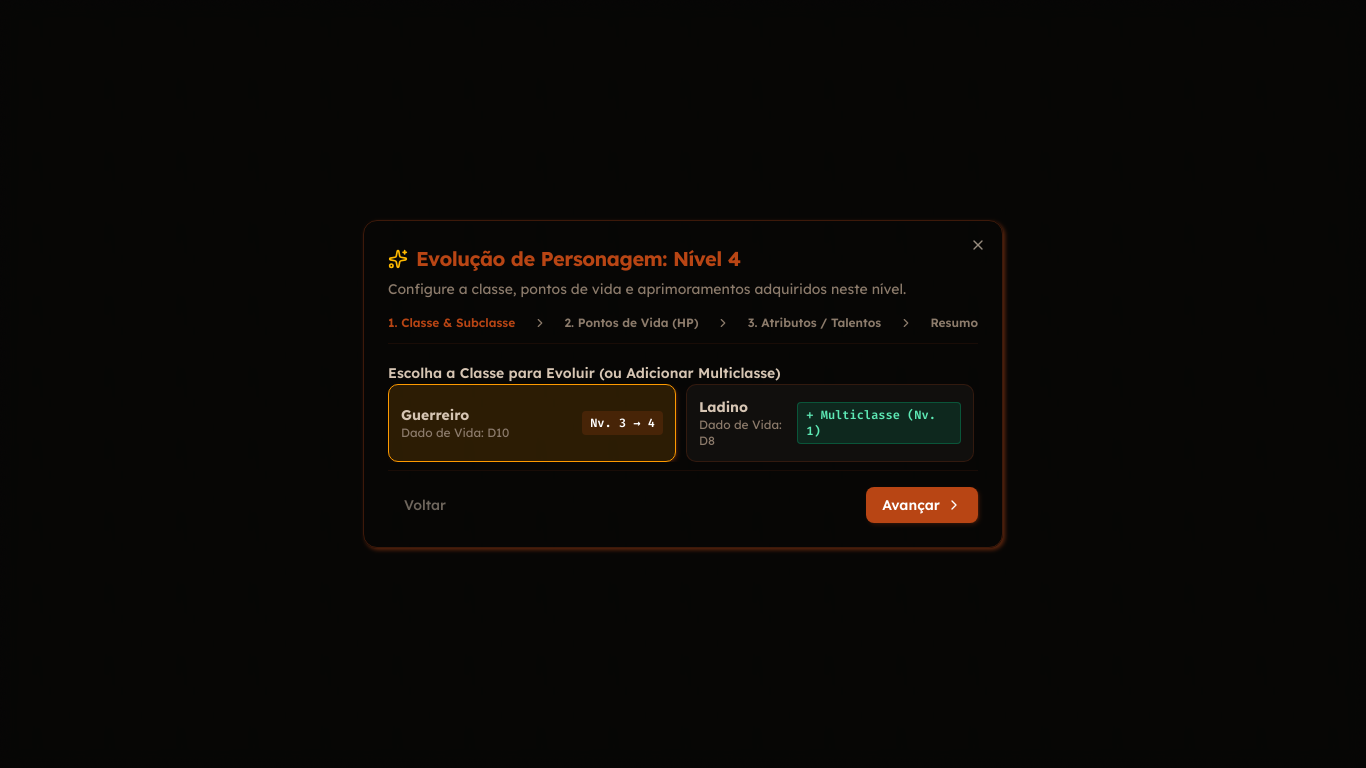
Scenario: XP Progress Bar & Level Up Wizard Modal logic › allows unrestricted multiclassing, locks HP method to character.hpCalculationMethod, and supports ASI vs Feat choice at ASI levels
Later steps or results of the test are not shown.
Expected: the button with test id "levelup-class-option-arch-fighter" is shown, [388,384,676,462]
Expected: the button with test id "levelup-class-option-arch-rogue" is shown, [686,384,974,462]
Click the button "Avançar".
click(922, 505)  # box [866,487,978,523]
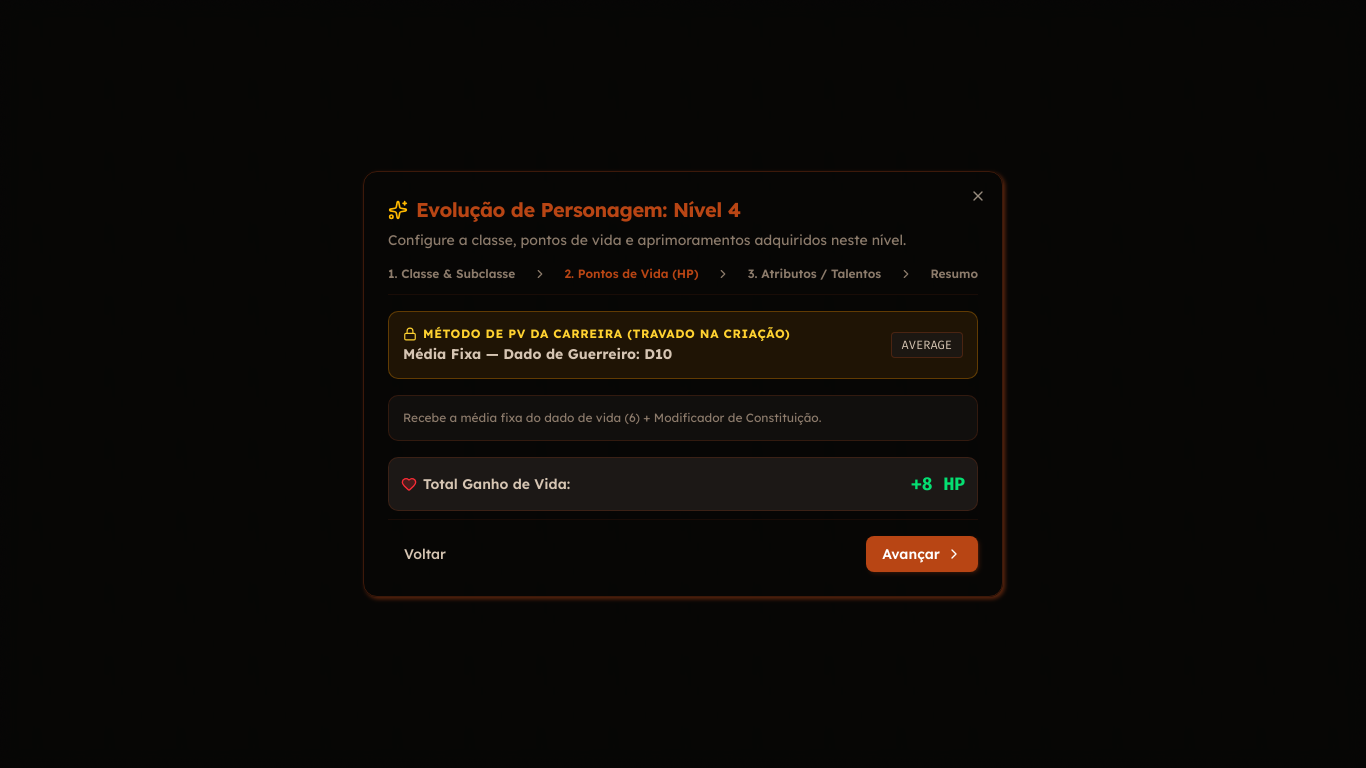
Result: the text "Método de PV da Carreira (Travado na Criação)" is shown at [403,326,790,342]
Result: the text "+8 HP" is shown at [911,470,965,498]
